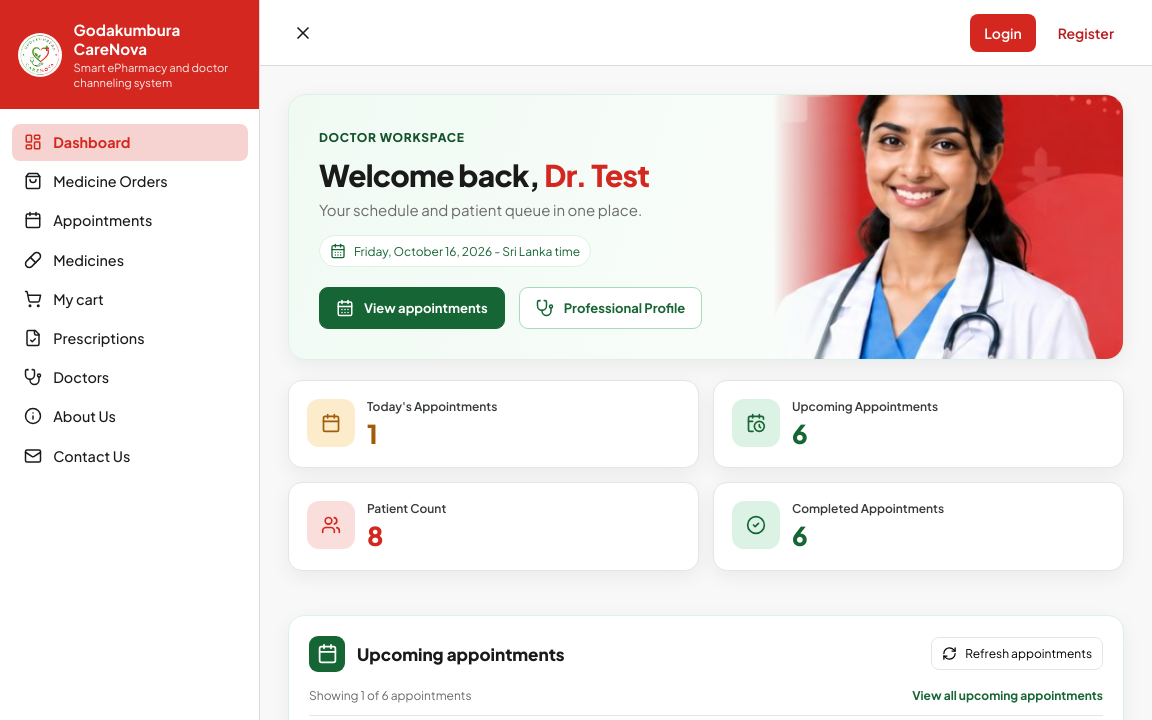
refreshes previews and counts after appointment status changes
Click the button "Refresh appointments" at coordinates (1017, 654), box [931,637,1103,670]
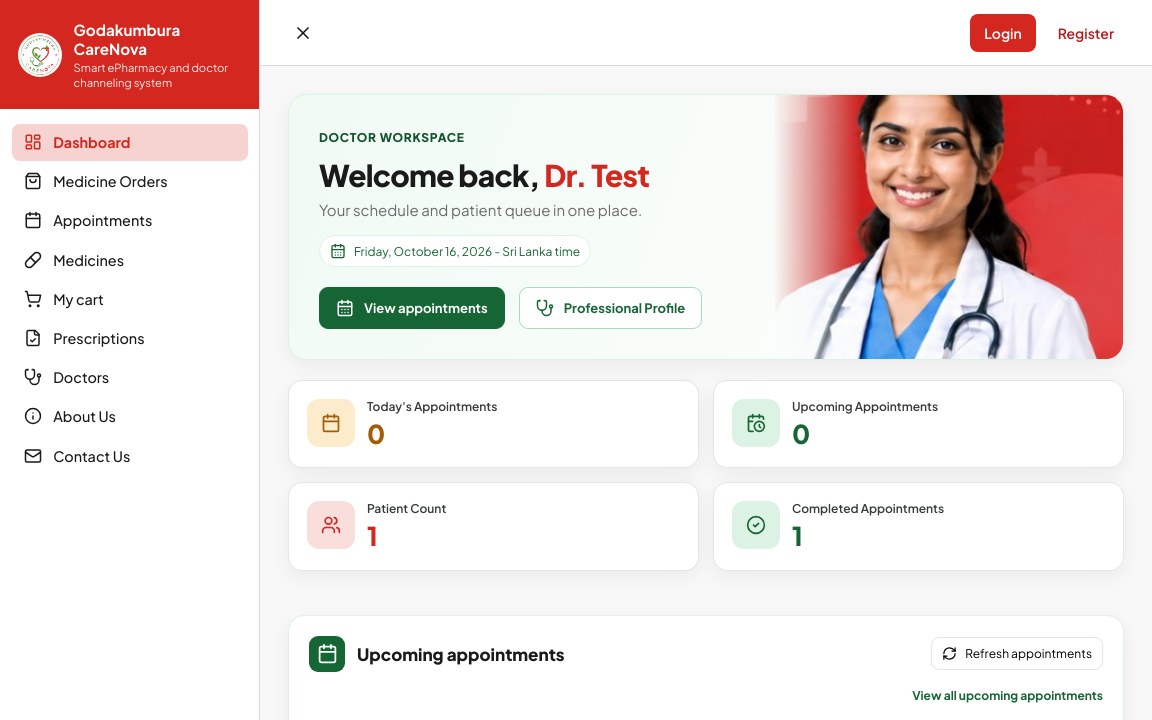
Expected: the link "Upcoming Appointments 0" is shown, [713,380,1124,468]
